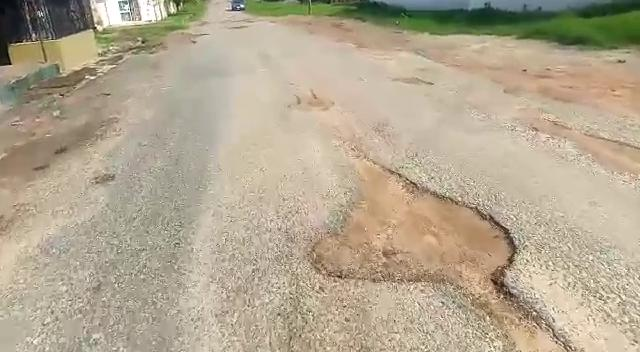pothole: (305, 174, 533, 292), (506, 112, 640, 188), (393, 75, 434, 87)
